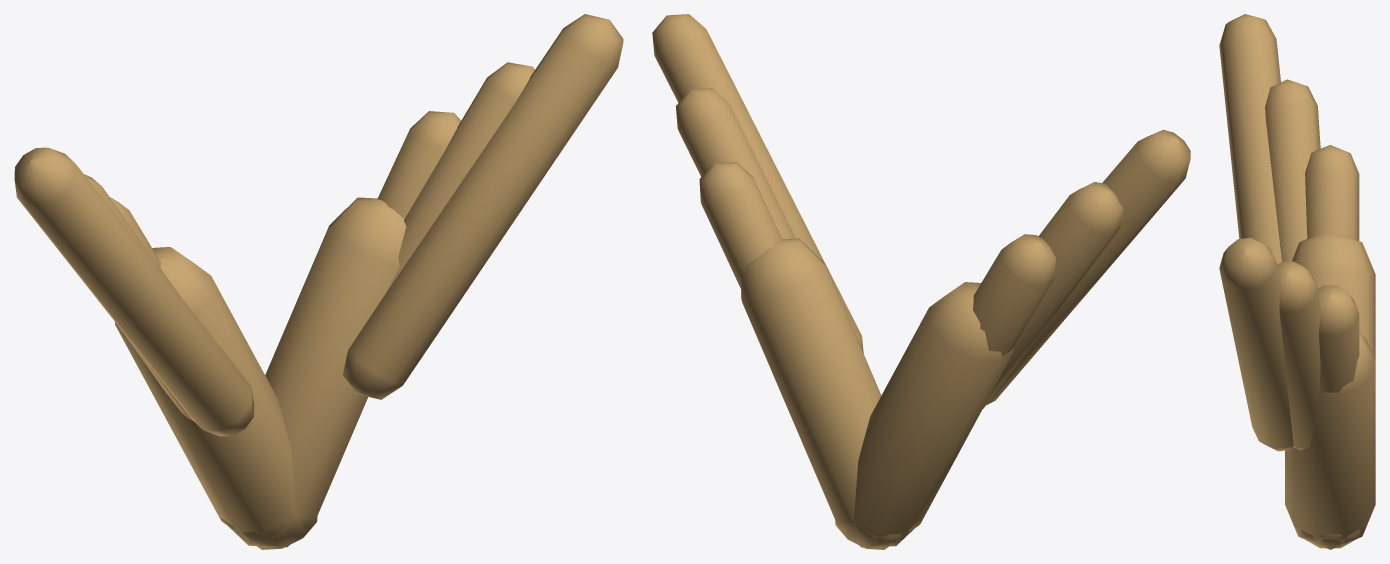
File: org_elkhorncoral.glb
The picture shows the model from 3 angles, left to right: view 1: azimuth 30°, elevation 25°; view 2: azimuth 150°, elevation 25°; view 3: azimuth 270°, elevation 25°; orthographic projection. The views are drawn at different scales.
Parts seen in each view (by area): view 1: Foliage; view 2: Foliage; view 3: Foliage.
Boxes of the visible parts, left/top/right/bottom form: Foliage: left=14, top=14, right=623, bottom=549; Foliage: left=652, top=14, right=1190, bottom=549; Foliage: left=1219, top=14, right=1375, bottom=549.
Bounding box in the file's own units: 0.8 × 0.6289 × 0.2147.
